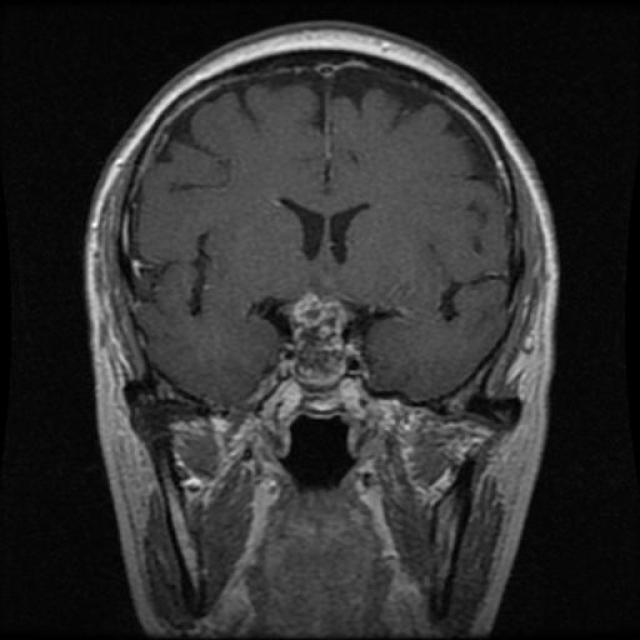pituitary: (274, 288, 364, 412)
